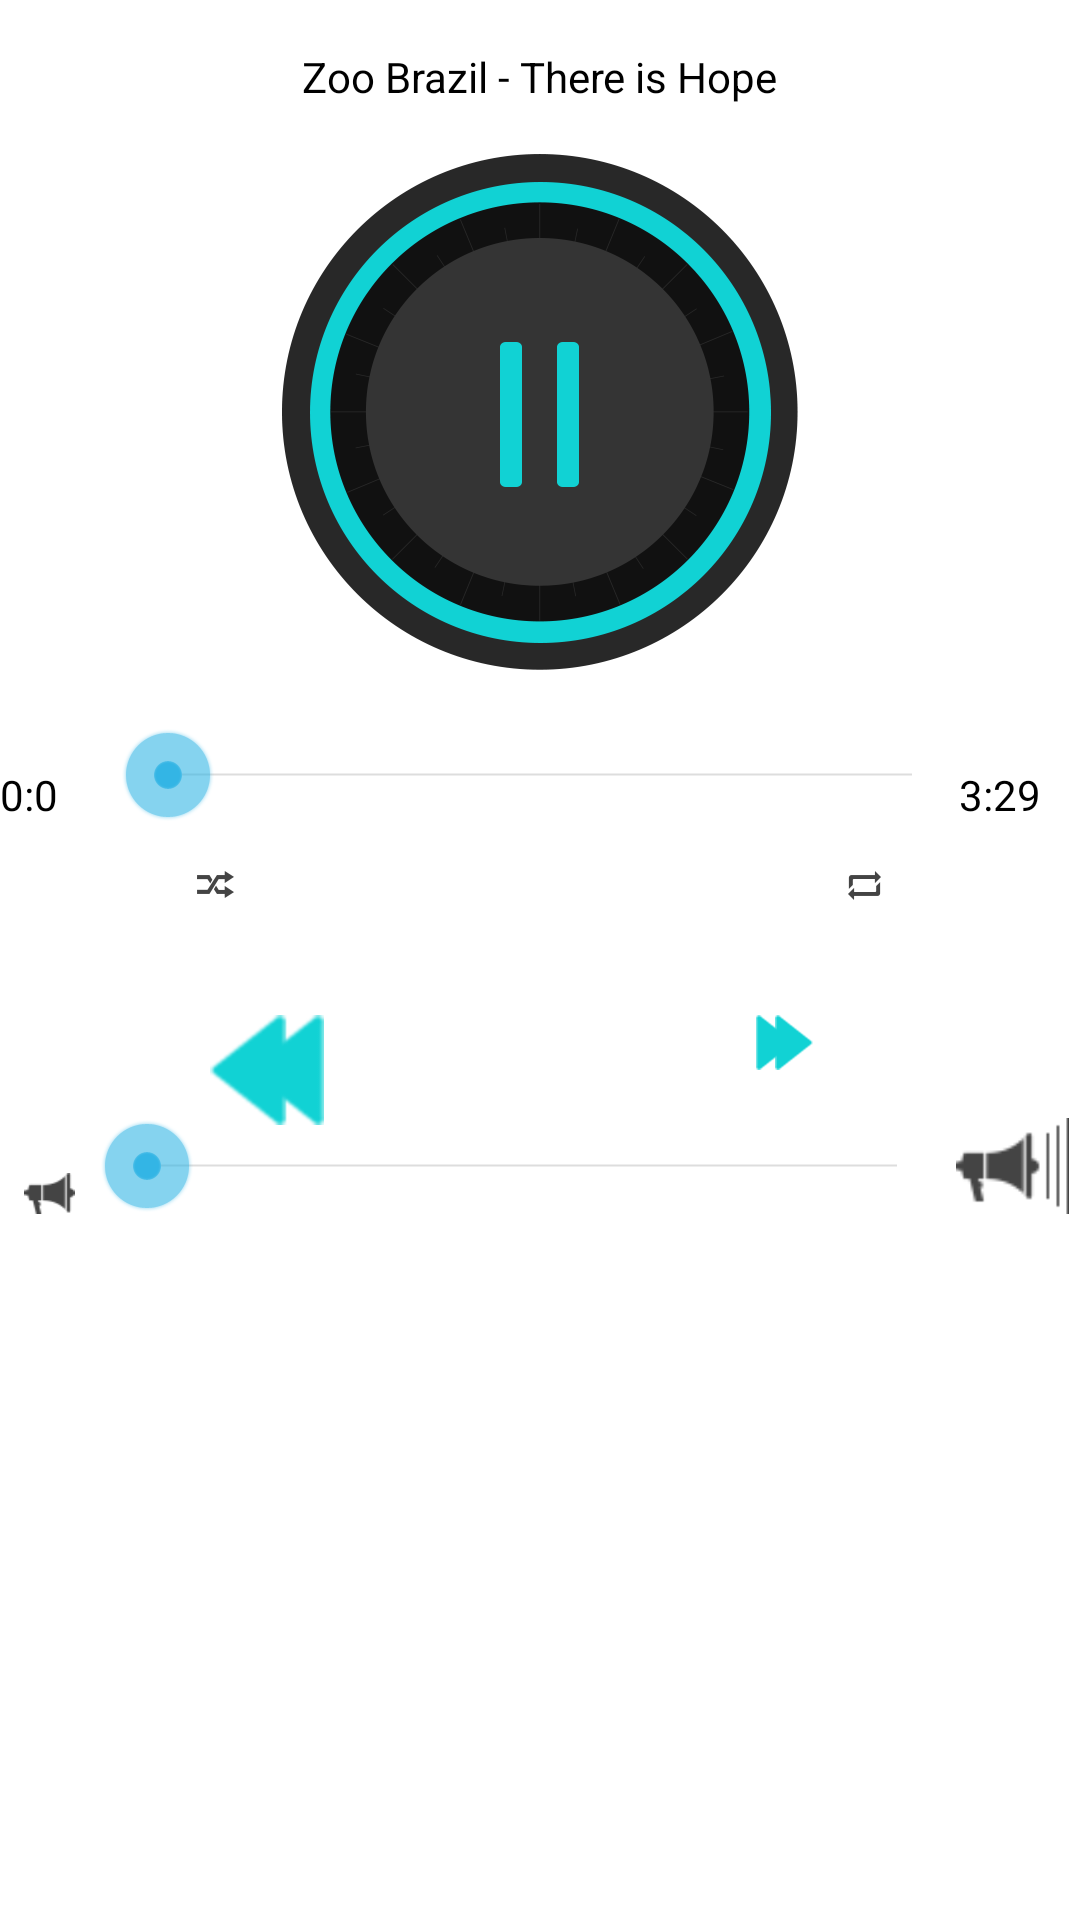

Where to tap for icons on this 1080px x 1920px app screen, as (x,y):
next audio: (784,1042)
previous audio: (267,1070)
volume high: (1012,1166)
volume low: (49,1193)
